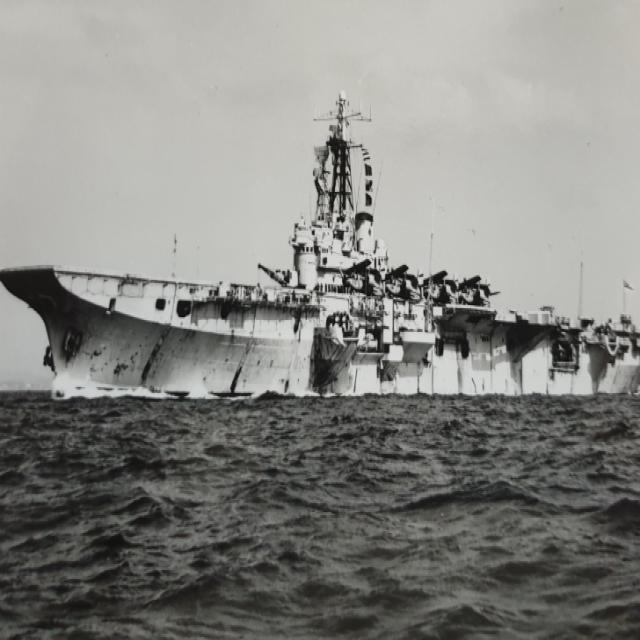Portanaves: (1, 77, 640, 409)
